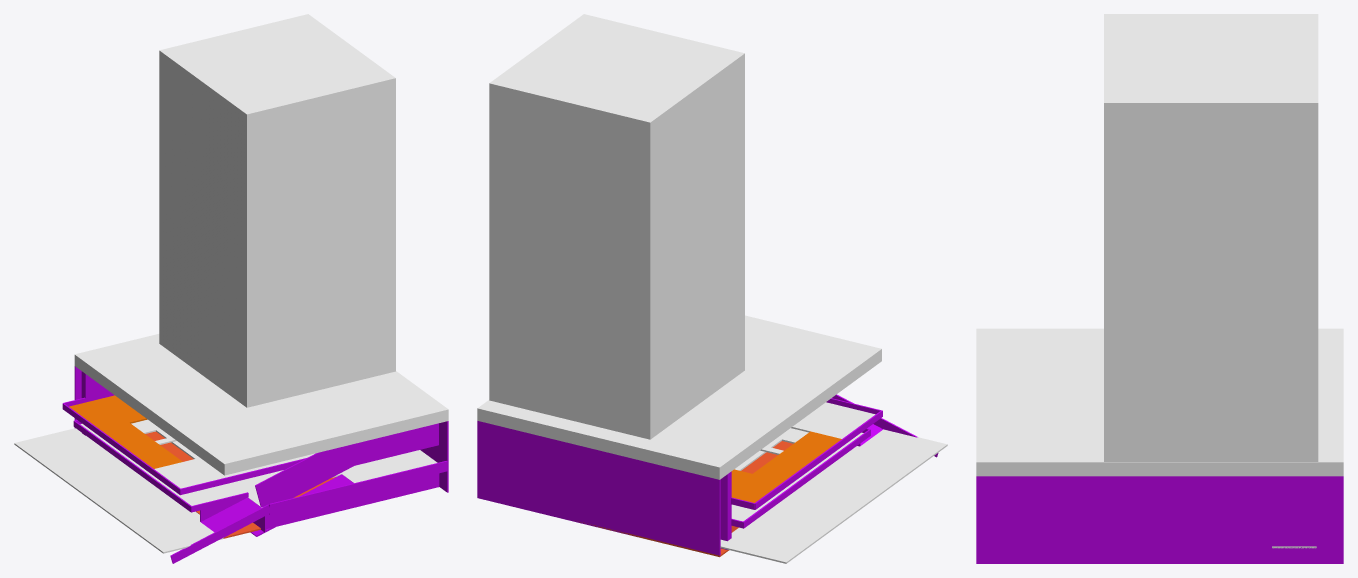
Rendered from ParkingGarage.gltf.
3 views of the same model, side by side, from view 1: azimuth 30°, elevation 25°; view 2: azimuth 150°, elevation 25°; view 3: azimuth 270°, elevation 25° (orthographic). The views are drawn at different scales.
Parts seen in each view (by area): view 1: CSGBox3D114, CSGBox3D27, CSGBox3D64, CSGBox3D1310, CSGBox3D211, CSGBox3D29, CSGBox3D126, CSGBox3D142, CSGBox3D2, CSGBox3D132, CSGBox3D92, CSGBox3D84 (+11 smaller); view 2: CSGBox3D114, CSGBox3D27, CSGBox3D54, CSGBox3D64, CSGBox3D142, CSGBox3D132, CSGBox3D84, CSGBox3D2, CSGBox3D78, CSGBox3D106, CSGBox3D66, CSGBox3D25 (+1 smaller); view 3: CSGBox3D114, CSGBox3D44, CSGBox3D27.
Part boxes in pixels (<box>): CSGBox3D114: <box>159,14,395,407</box>; CSGBox3D27: <box>74,334,448,475</box>; CSGBox3D64: <box>14,428,200,537</box>; CSGBox3D1310: <box>255,445,351,506</box>; CSGBox3D211: <box>266,473,439,528</box>; CSGBox3D29: <box>269,461,447,514</box>; CSGBox3D126: <box>349,423,438,466</box>; CSGBox3D142: <box>100,422,182,468</box>; CSGBox3D2: <box>69,395,147,429</box>; CSGBox3D132: <box>154,458,287,488</box>; CSGBox3D92: <box>350,450,437,479</box>; CSGBox3D84: <box>142,522,223,553</box>; CSGBox3D114: <box>489,14,744,439</box>; CSGBox3D27: <box>477,315,881,479</box>; CSGBox3D54: <box>477,421,720,555</box>; CSGBox3D64: <box>720,446,924,563</box>; CSGBox3D142: <box>753,431,841,481</box>; CSGBox3D132: <box>791,402,875,438</box>; CSGBox3D84: <box>861,429,947,462</box>; CSGBox3D2: <box>731,469,783,502</box>; CSGBox3D78: <box>742,430,870,528</box>; CSGBox3D106: <box>755,411,881,509</box>; CSGBox3D66: <box>720,471,731,549</box>; CSGBox3D25: <box>577,441,793,557</box>; CSGBox3D114: <box>1104,14,1318,461</box>; CSGBox3D44: <box>976,476,1341,563</box>; CSGBox3D27: <box>976,328,1343,476</box>.
Size of the model in its own units: 209 by 270 by 190.
